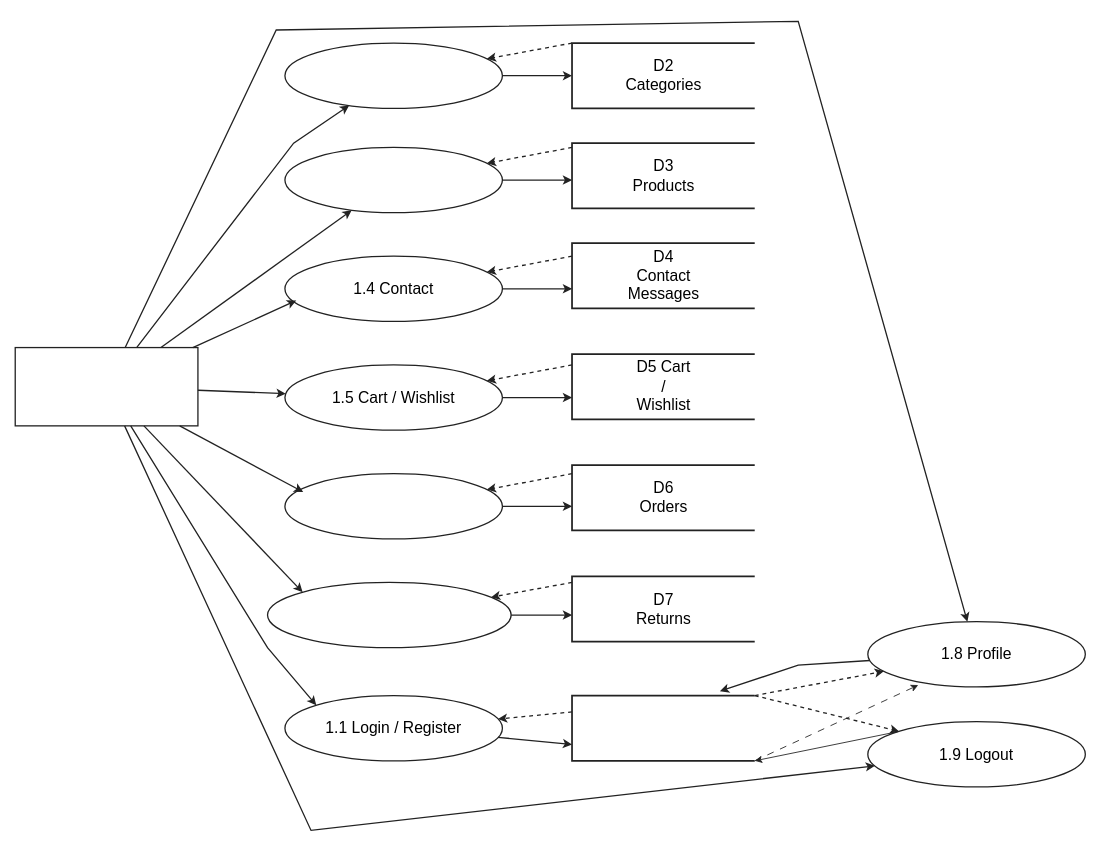
This 1101x853 diagram has some shape labels left out. The centre of each missing label's shape, as x and y in pixels:
1.2 View Category: point (393, 75)
1.3 View Product: point (393, 179)
1.6 Place Order: point (393, 506)
1.7 View Order / Return: point (388, 614)
D1 Users: point (663, 727)
Registered User: point (106, 386)
